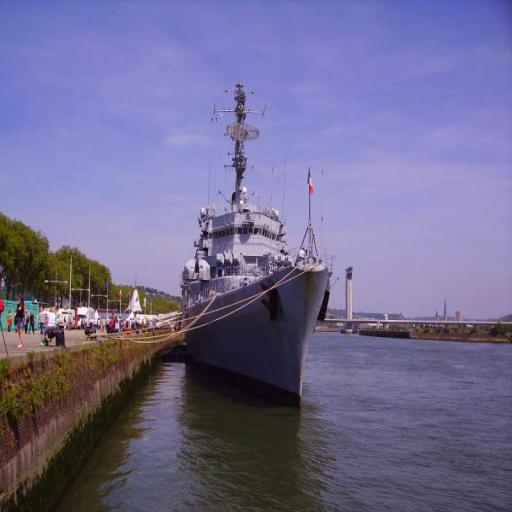Portanaves: (180, 64, 335, 410)
